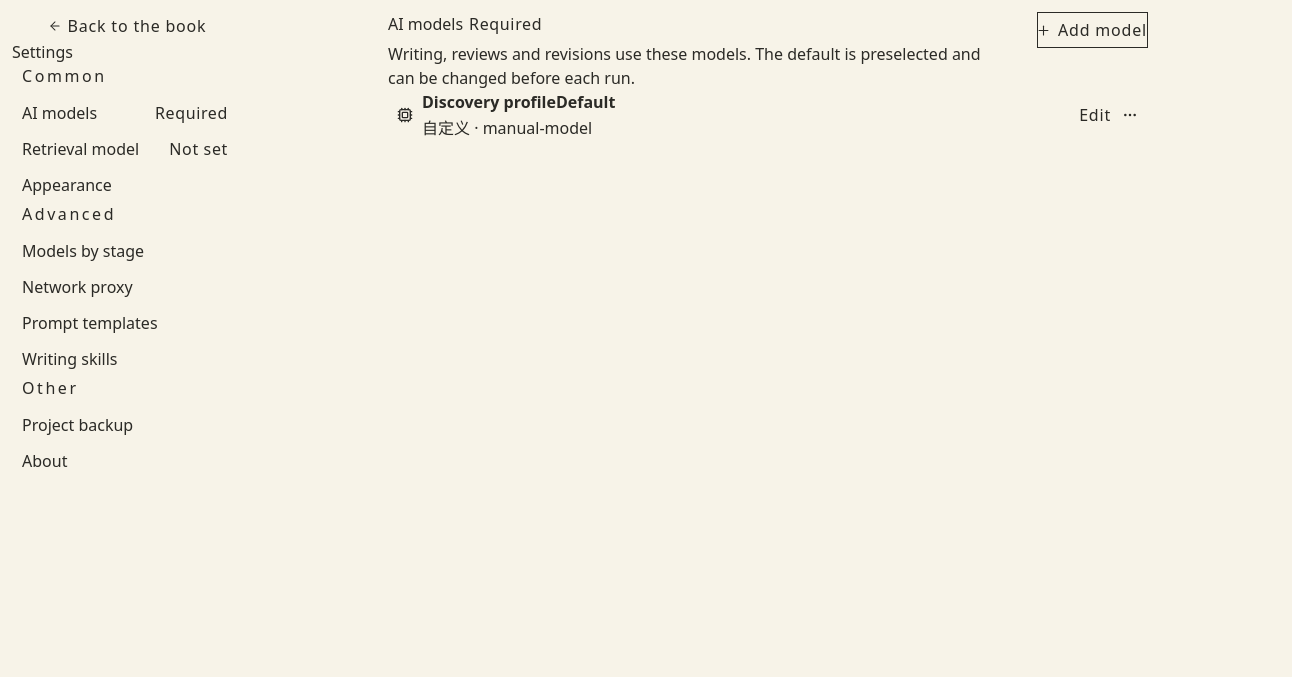
model discovery settings flow › 上下文窗口来源标签 › en-US 下档案 {"capabilities":{"contextWindowTokens":1000,"maxOutputTokens":4096,"reasoning":false,"structuredOutput":false,"usage":false},"capabilitySources":{"con
Click the button with aria-label "Edit “": (1095,115) top-left (1078, 101), bottom-right (1112, 129)
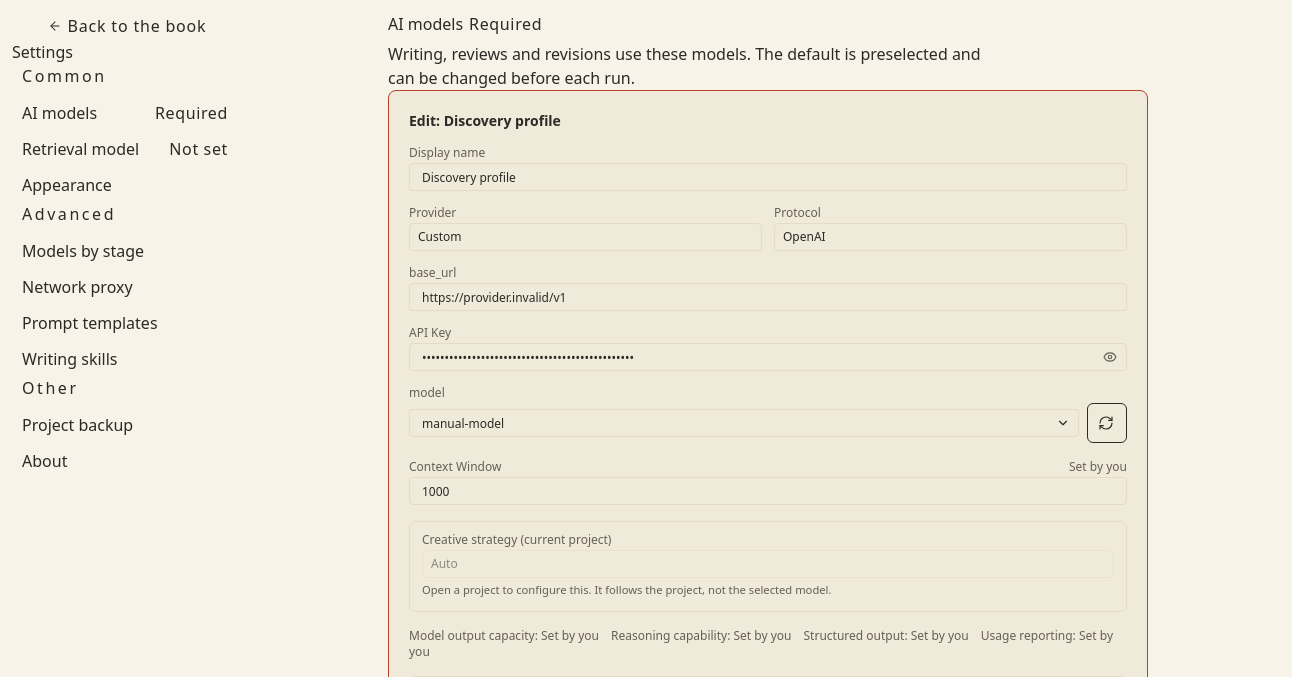
Now the text "Set by you" is shown, box top-left (1069, 459), bottom-right (1127, 475)
